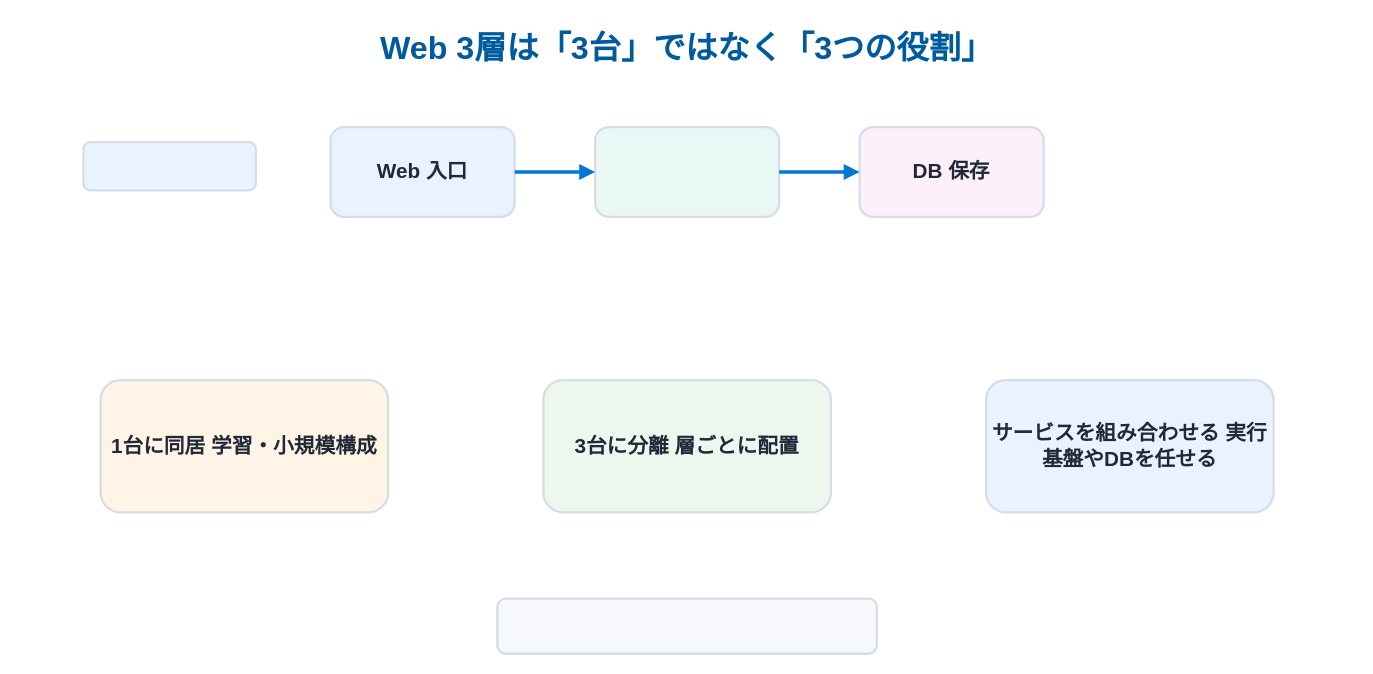
Image size: 1373x674. Some labels were removed from this diagram. The shapes that lost their labels are listed below. From the top down, each one's centre as x and y in pixels, then its label:
At (169,165): "論理構成".
At (686,171): "AP 処理".
At (686,625): "物理構成は目的や運用に合わせて変わります。".
